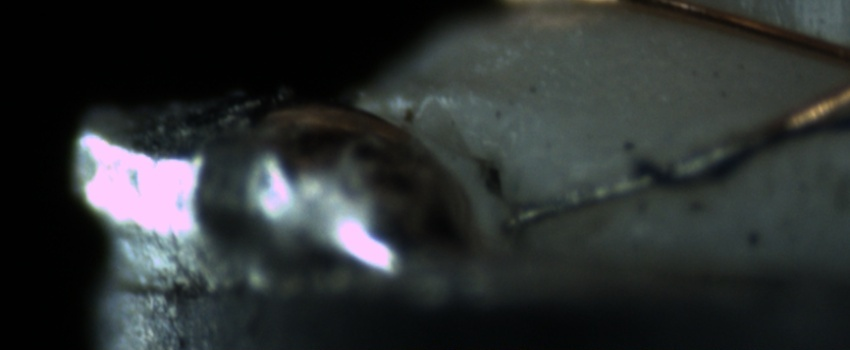TS: (508, 112, 792, 231)
TTCW: (510, 98, 831, 230)
